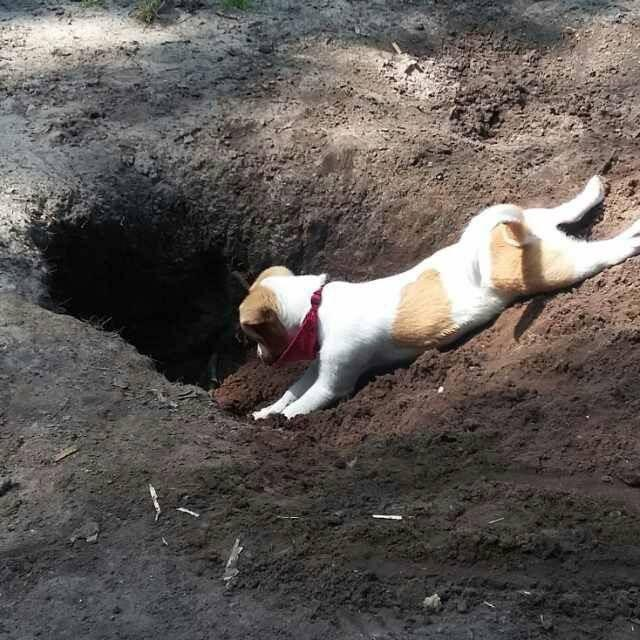adult_dog: (236, 167, 640, 422)
